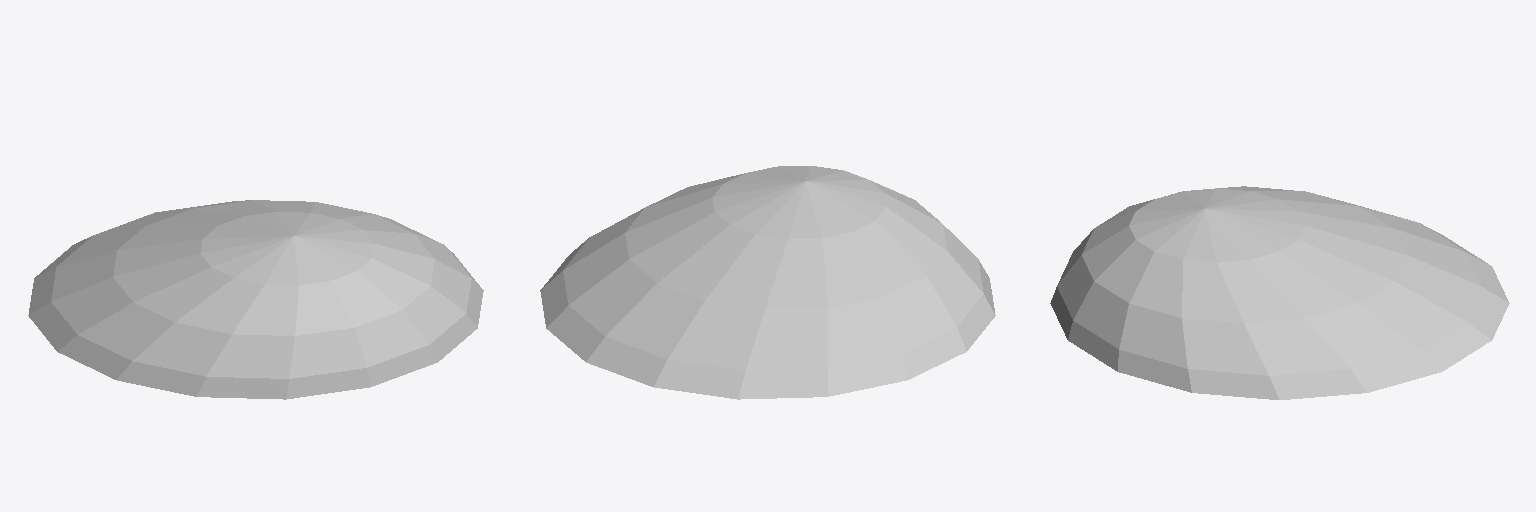
Rendered from bump.obj.
The picture shows the model from 3 angles: view 1: azimuth 30°, elevation 25°; view 2: azimuth 150°, elevation 25°; view 3: azimuth 270°, elevation 25°; orthographic projection.
Parts seen in each view (by area): view 1: sphere1_cut2; view 2: sphere1_cut2; view 3: sphere1_cut2.
Part boxes in pixels (x1,y1,x2,y2): sphere1_cut2: (28, 200, 483, 399); sphere1_cut2: (540, 166, 995, 399); sphere1_cut2: (1050, 186, 1509, 399).
Size of the model in its own units: 4 by 0.9102 by 4.